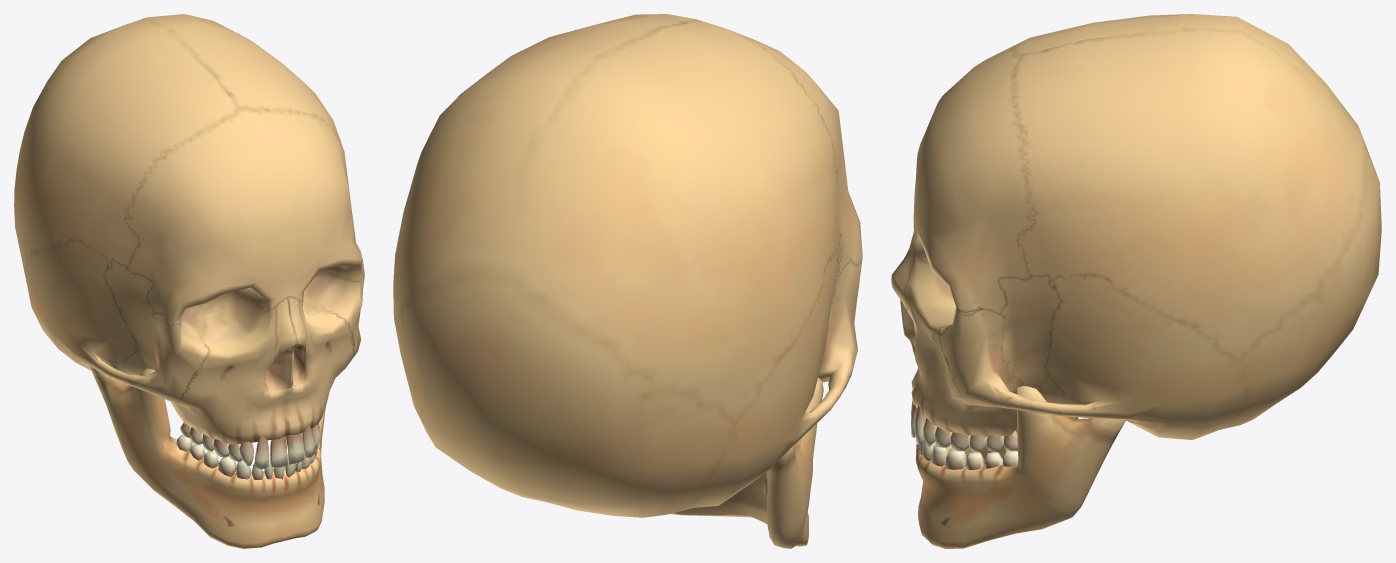
Rendered from skull.glb.
The picture shows the model from 3 angles, left to right: view 1: azimuth 30°, elevation 25°; view 2: azimuth 150°, elevation 25°; view 3: azimuth 270°, elevation 25°; orthographic projection. The views are drawn at different scales.
Parts seen in each view (by area): view 1: skull; view 2: skull; view 3: skull.
Boxes of the visible parts, <box> form: skull: <box>14,14,364,548</box>; skull: <box>393,14,862,548</box>; skull: <box>891,14,1381,548</box>.
Size of the model in its own units: 0.6734 by 1 by 0.8931.
Materials: 1 (1 with a texture image).
